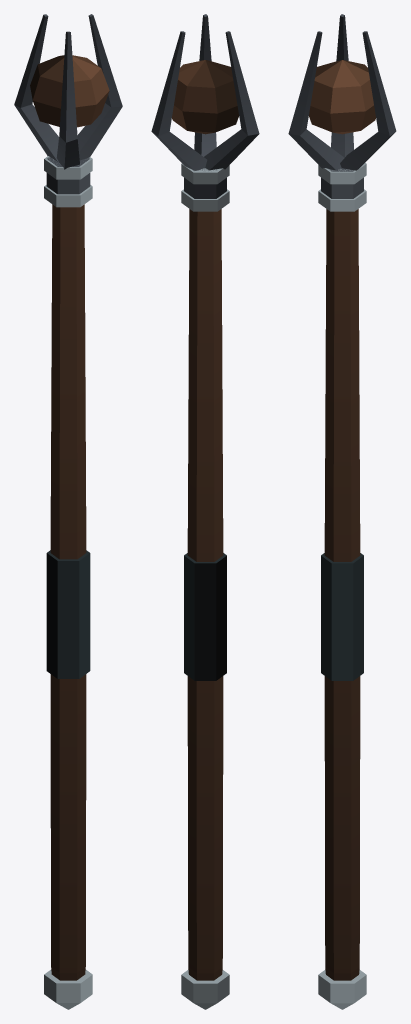
File: mage_staff_1.gltf
3 renders of one model, left to right at view 1: azimuth 30°, elevation 25°; view 2: azimuth 210°, elevation 25°; view 3: azimuth 330°, elevation 25°, orthographic.
Visible parts, largest first — view 1: mage_staff_1; view 2: mage_staff_1; view 3: mage_staff_1.
Part boxes in pixels (<box>): mage_staff_1: <box>14,14,122,1009</box>; mage_staff_1: <box>151,14,259,1009</box>; mage_staff_1: <box>288,14,396,1009</box>.
Bounding box in the file's own units: 0.2305 × 2.51 × 0.2388.
1 material, 1 textured.
